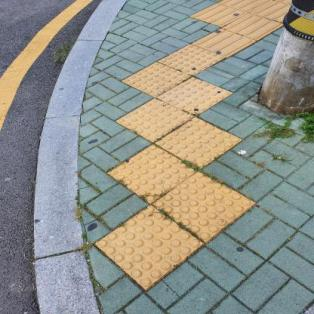Podoctatil: (93, 0, 260, 293)
